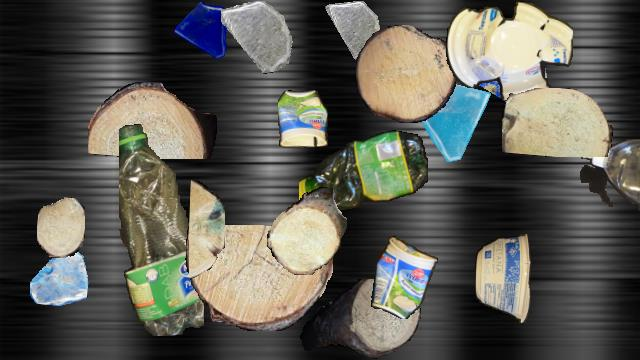glass: (456, 30, 550, 124), (410, 75, 500, 165), (221, 1, 293, 73), (173, 1, 237, 65), (30, 247, 88, 305), (325, 1, 383, 59)
plastic: (119, 123, 203, 335), (446, 1, 572, 101), (299, 126, 427, 218), (369, 236, 439, 318), (580, 139, 640, 223), (475, 234, 531, 322), (278, 90, 328, 148)
wood: (185, 225, 333, 331), (356, 25, 456, 123), (299, 279, 421, 359), (88, 82, 216, 158), (502, 88, 612, 156), (267, 187, 347, 275), (189, 180, 225, 278), (37, 197, 85, 257)
